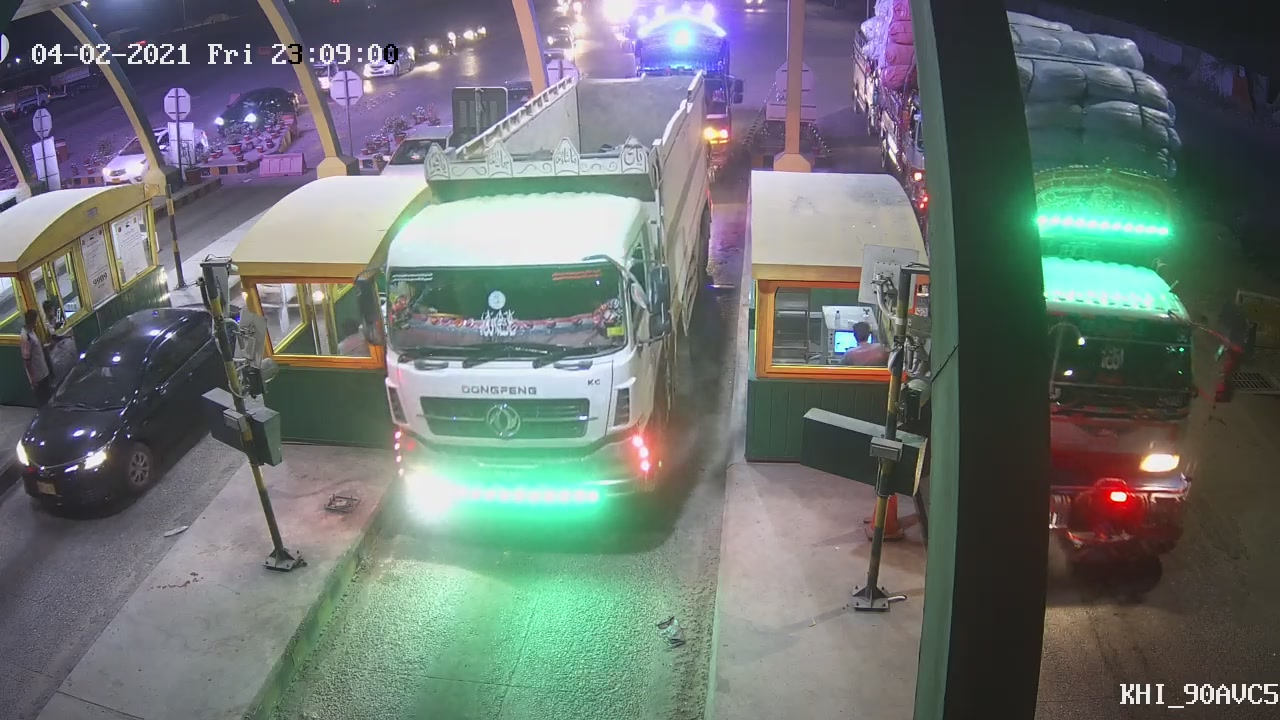F5: (346, 66, 705, 520)
